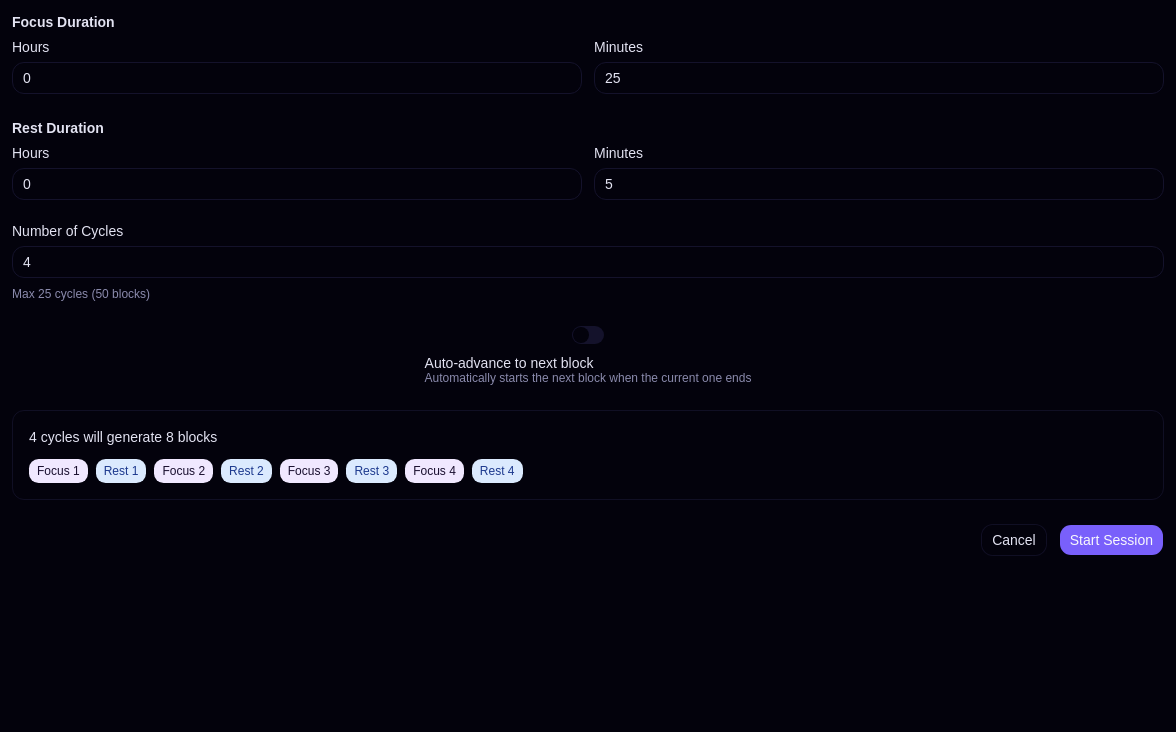
TraditionalForm › updates preview when cycles change
The width and height of the screenshot is (1176, 732).
Replace the text in the number field labelled "Number of Cycles" with "3" at (588, 262), box [12,246,1164,278]
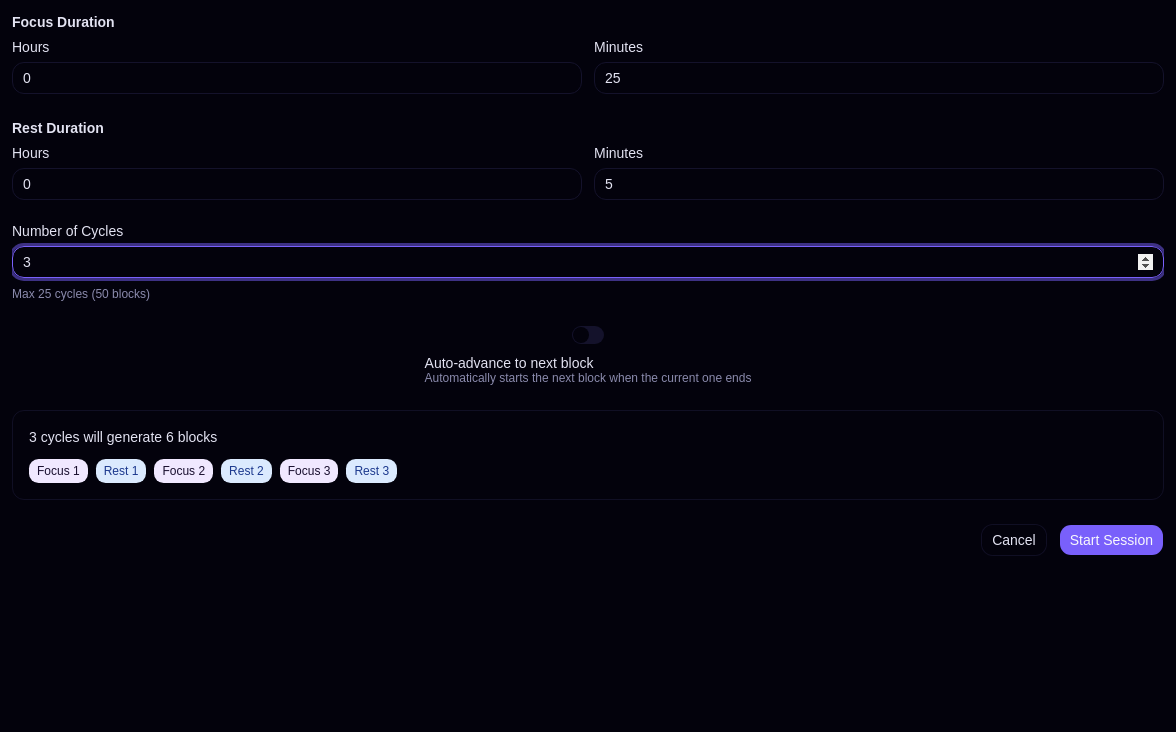
Check: the list item "Focus 1" is shown, box [29,459,88,483]
Check: the text "3 cycles will generate 6 blocks" is shown, box [29,429,217,445]
